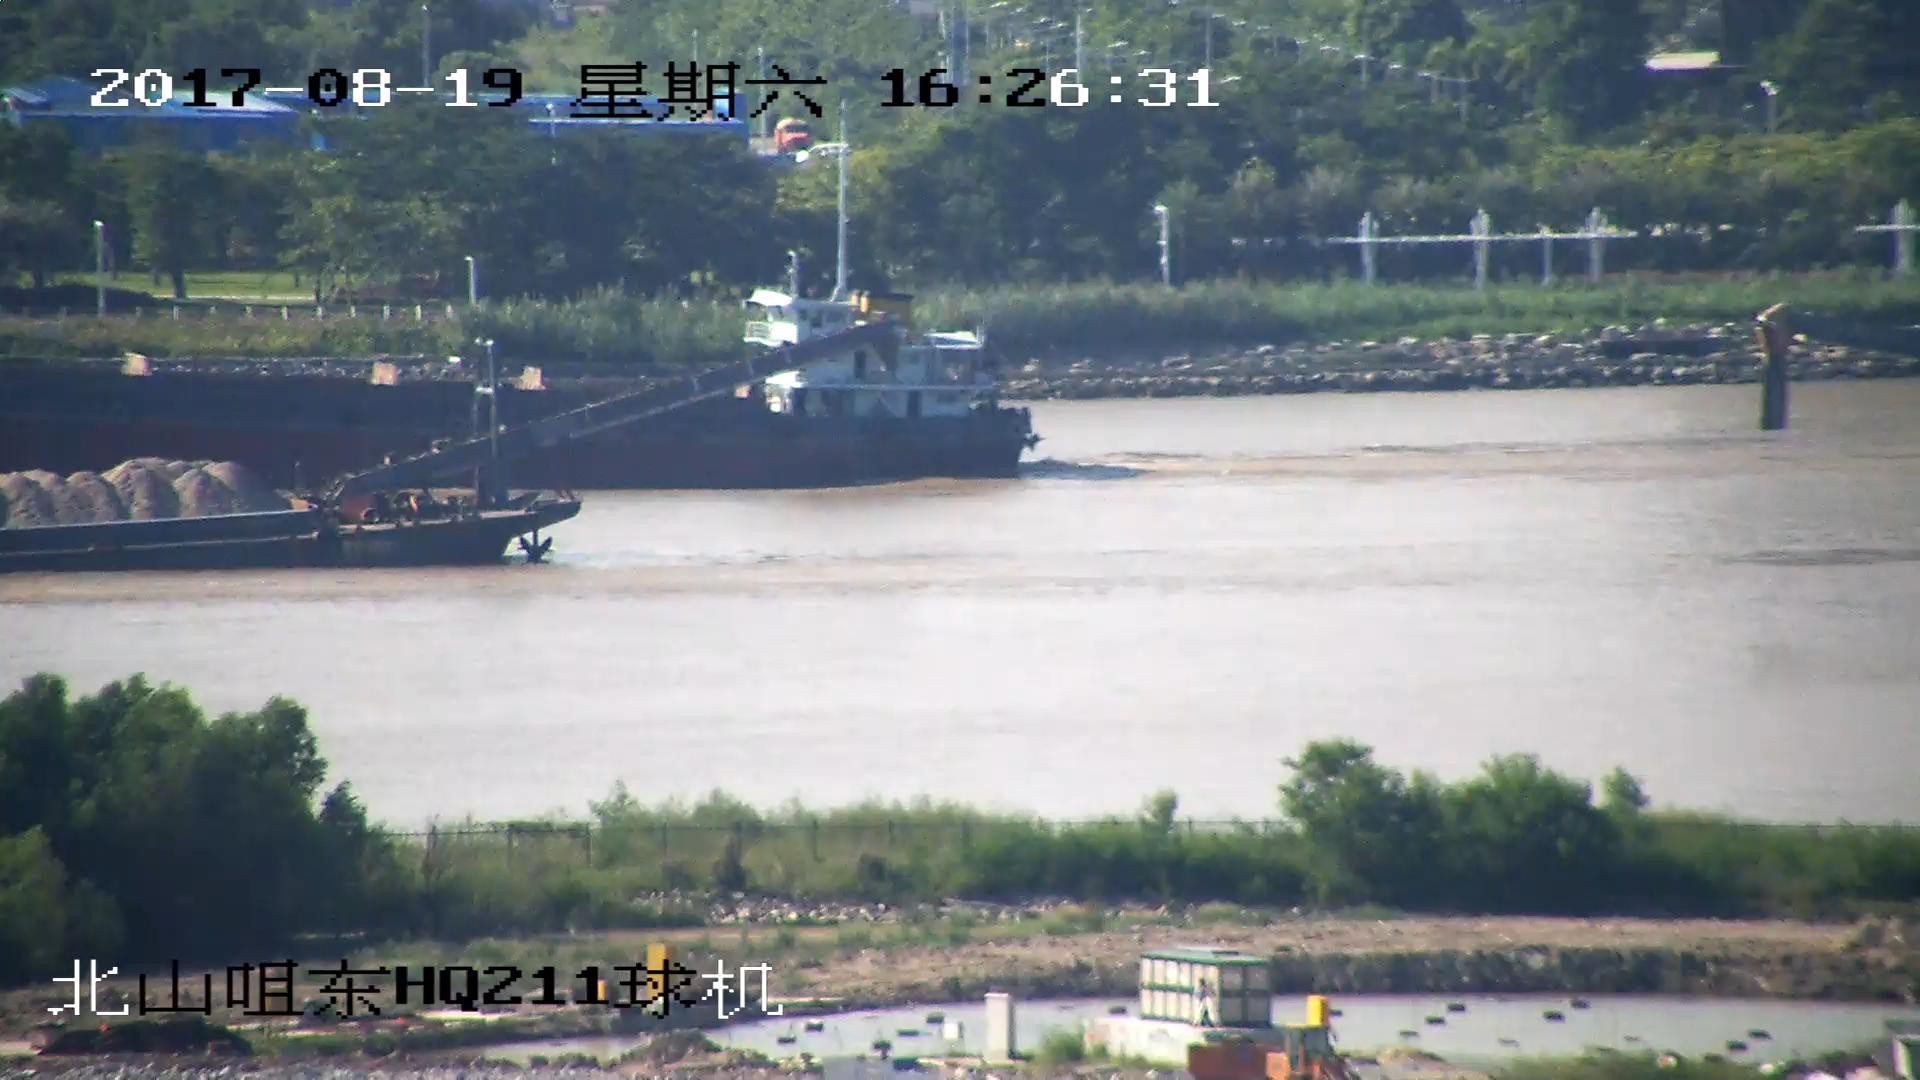Ship: (3, 256, 1031, 485), (3, 328, 891, 574)
